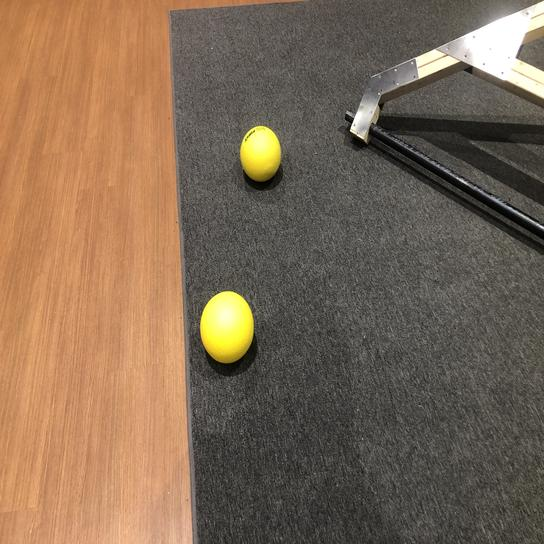ball: (198, 287, 257, 367), (237, 122, 282, 184)
